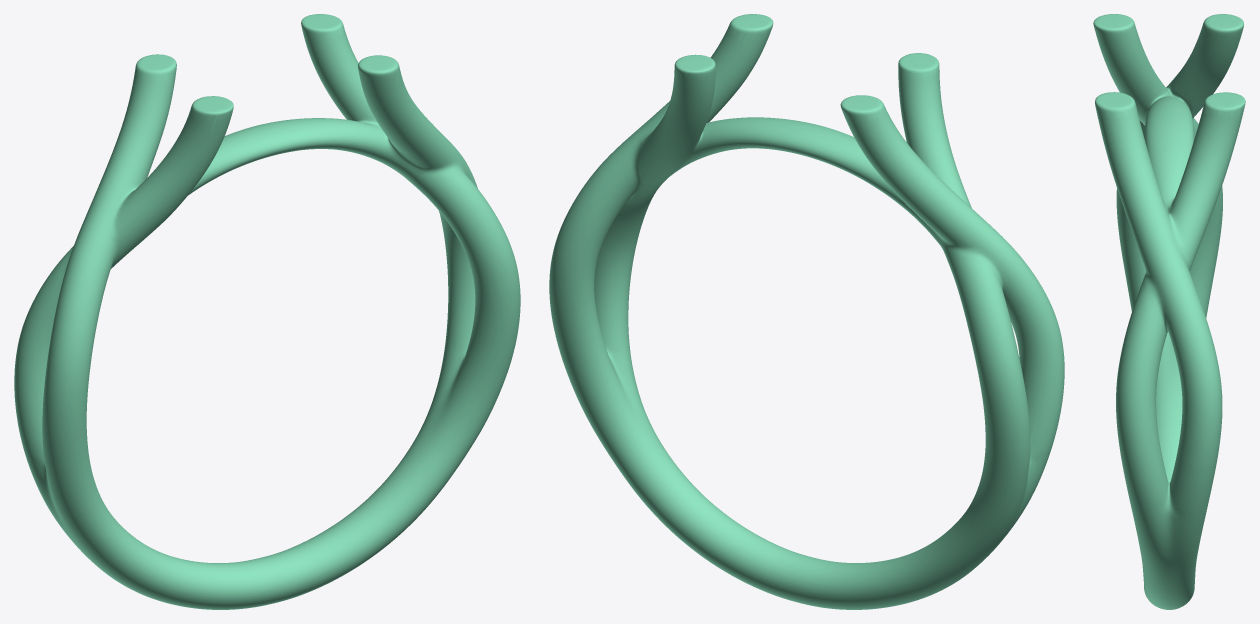
The picture shows the model from 3 angles, left to right: view 1: azimuth 30°, elevation 25°; view 2: azimuth 150°, elevation 25°; view 3: azimuth 270°, elevation 25°; orthographic projection. The views are drawn at different scales.
Visible parts, largest first — view 1: Metal02; view 2: Metal02; view 3: Metal02.
Part boxes in pixels (left/top/right/bottom): Metal02: left=14, top=14, right=520, bottom=609; Metal02: left=549, top=14, right=1064, bottom=609; Metal02: left=1093, top=14, right=1245, bottom=609.
Size of the model in its own units: 21.16 by 22.88 by 6.01.
